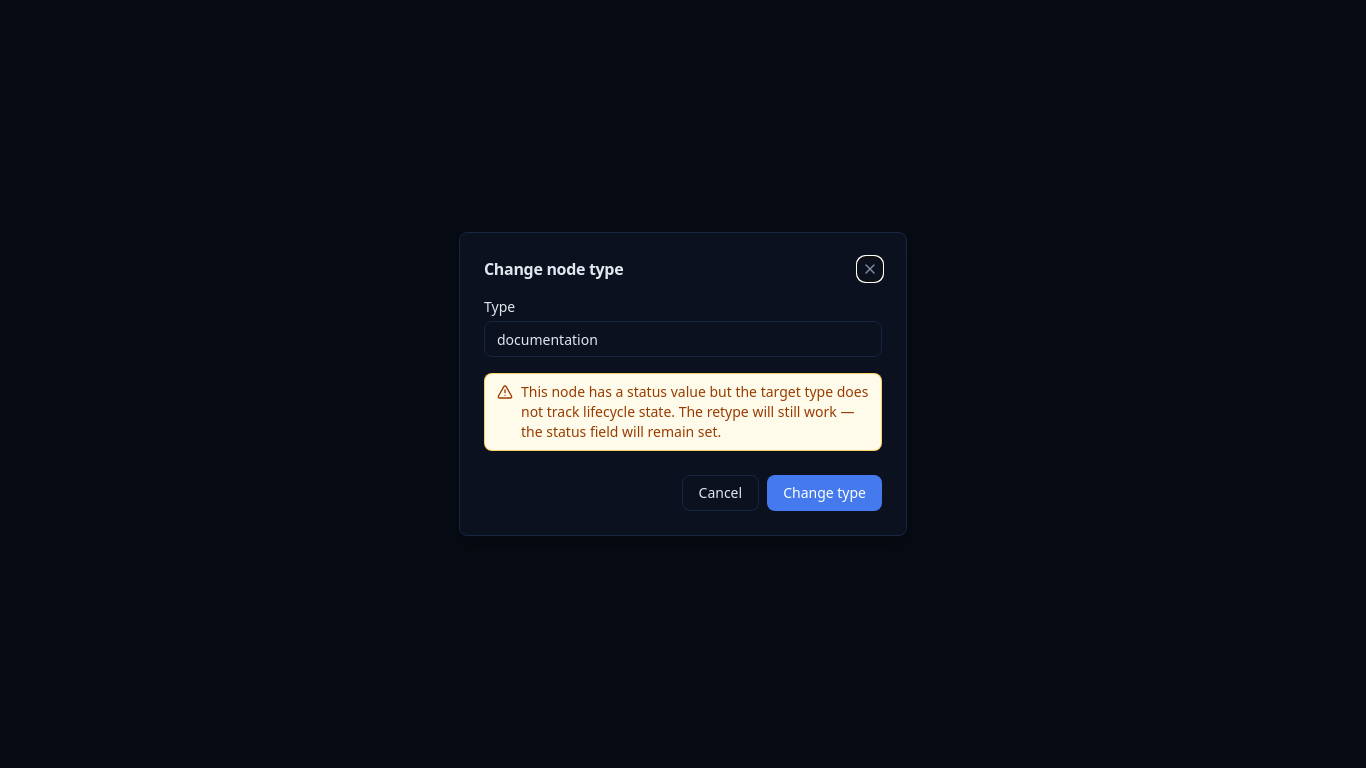
RetypeNodeDialog — soft warning heuristic › T7: warning disappears after user switches back to a lifecycle-bearing type
Replace the text in the field labelled "Type" with "project" at coordinates (683, 339), box [484, 321, 882, 357]
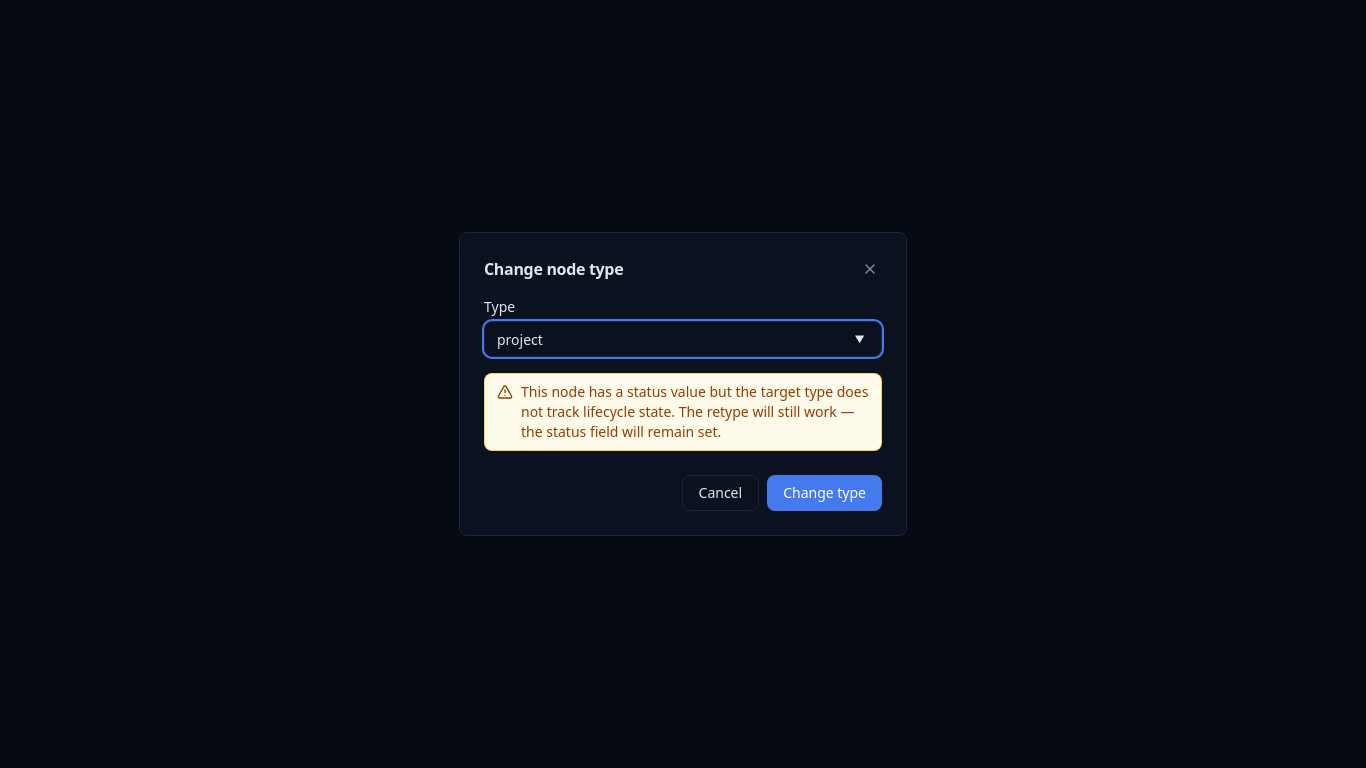
Expected: the message is shown, [484, 373, 882, 451]
Replace the text in the field labelled "Type" with "bug" at coordinates (683, 339), box [484, 321, 882, 357]
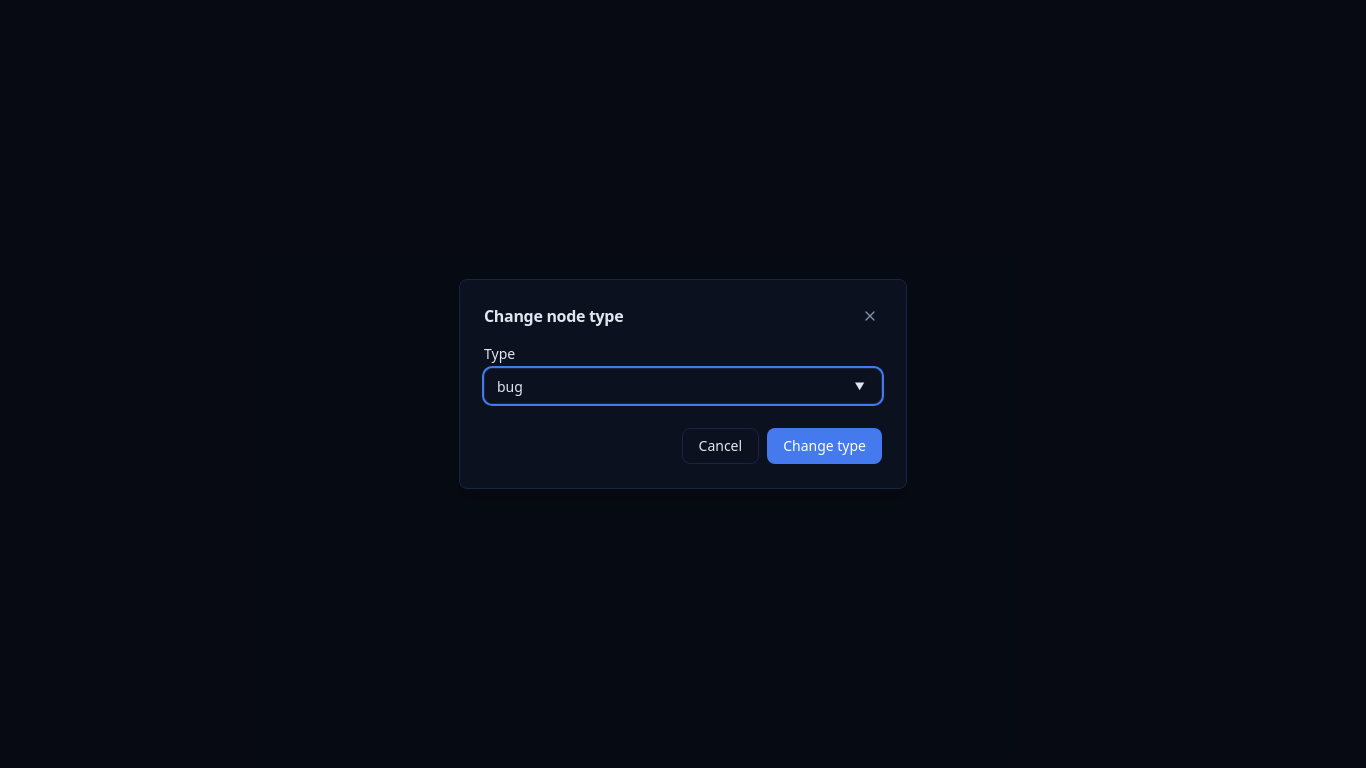
Result: the message is gone
